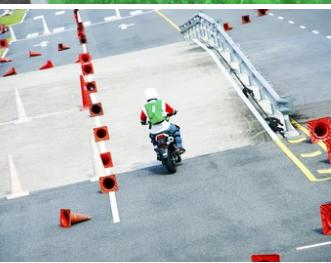rear: (149, 127, 179, 176)
